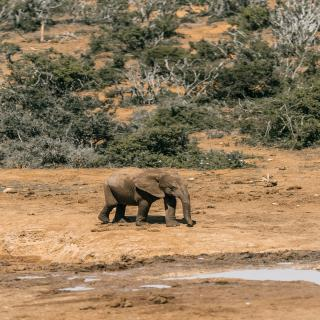Elephant: (92, 164, 202, 229)
